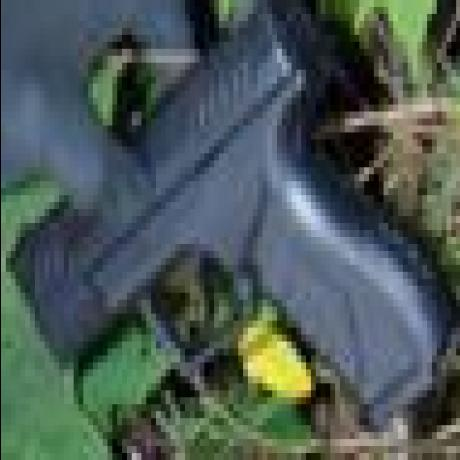weapon: (4, 6, 453, 422)
